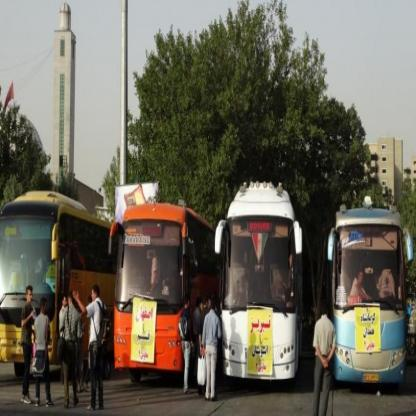Bus: (0, 186, 118, 375), (213, 178, 305, 384), (110, 206, 215, 374), (328, 195, 416, 387)
